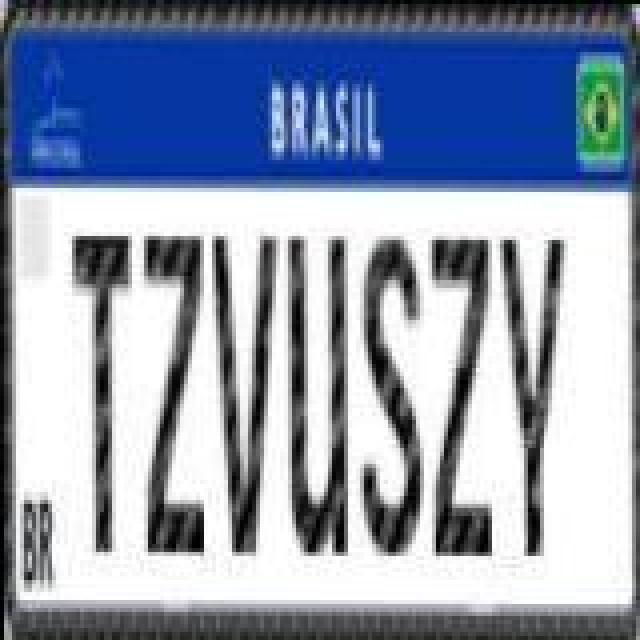S: (358, 228, 422, 560)
T: (72, 226, 132, 558)
U: (286, 230, 350, 558)
V: (212, 230, 280, 558)
Y: (496, 232, 564, 560)
Z: (142, 228, 206, 560), (430, 228, 494, 560)
